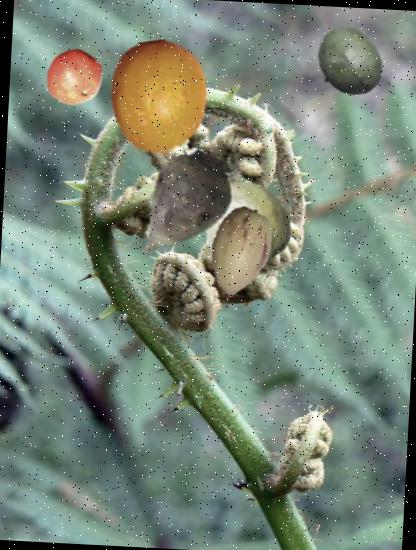Beetroot: (120, 142, 250, 272)
Clementine: (44, 46, 106, 109)
Lemon: (99, 37, 220, 158)
Limes: (199, 176, 295, 272)
Mango: (310, 22, 388, 100)
Pepino: (194, 204, 288, 298)
